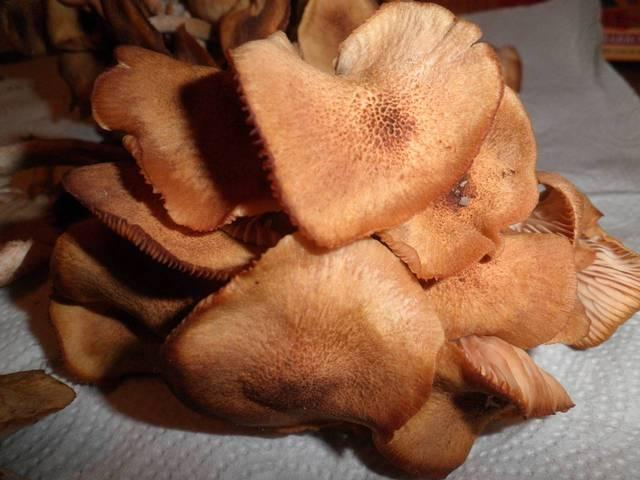Edible Mushroom: (16, 0, 637, 477)
